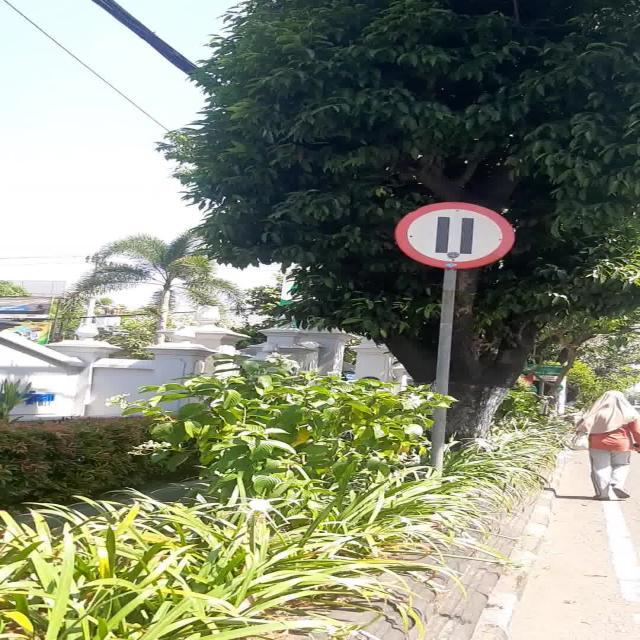Larangan Muatan - 10 ton: (395, 202, 515, 268)
